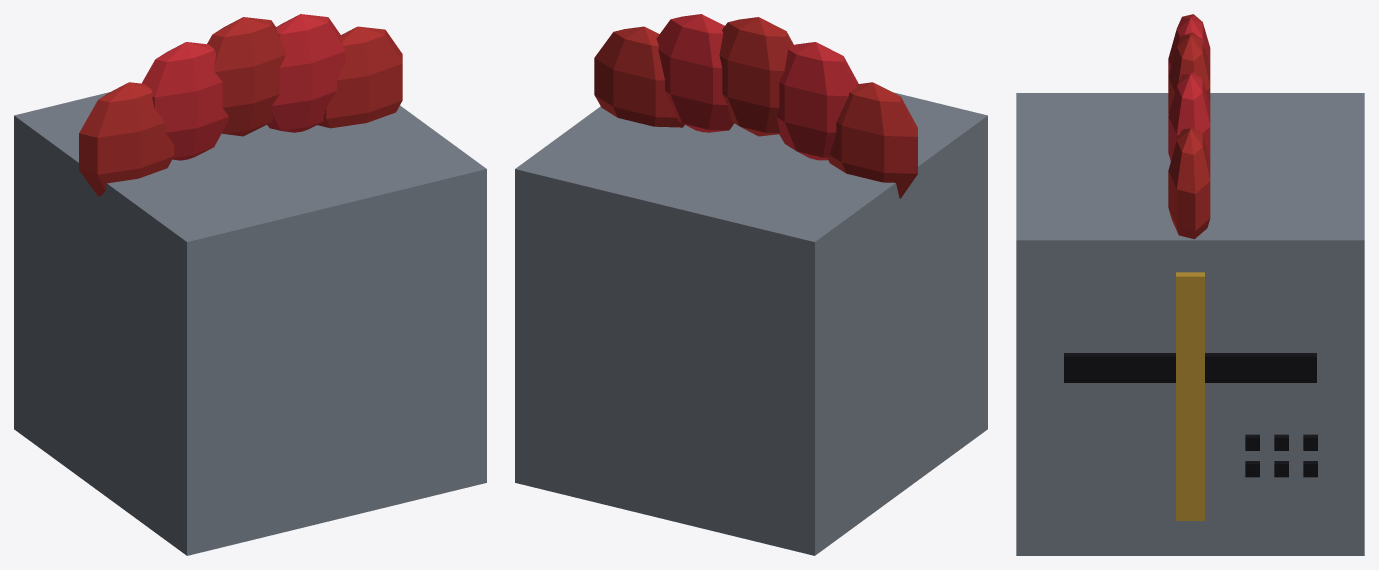
File: hat_knight.glb
3 views of the same model, side by side, from view 1: azimuth 30°, elevation 25°; view 2: azimuth 150°, elevation 25°; view 3: azimuth 270°, elevation 25° (orthographic).
Parts seen in each view (by area): view 1: Hat; view 2: Hat; view 3: Hat.
Part boxes in pixels (left/top/right/bottom): Hat: left=14, top=14, right=486, bottom=555; Hat: left=515, top=14, right=987, bottom=555; Hat: left=1016, top=14, right=1364, bottom=555.
Size of the model in its own units: 0.5511 by 0.708 by 0.504.
